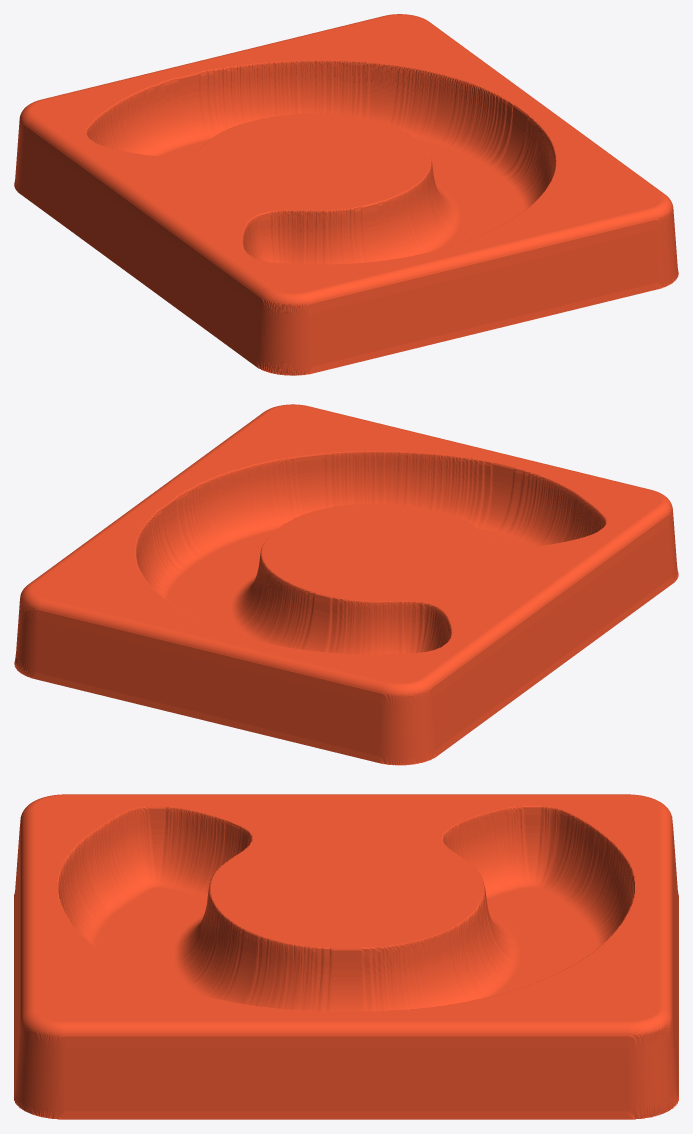
File: mold.glb
3 views of the same model, one above another, from view 1: azimuth 30°, elevation 25°; view 2: azimuth 150°, elevation 25°; view 3: azimuth 270°, elevation 25° (orthographic). The views are drawn at different scales.
Visible parts, largest first — view 1: geometry_0; view 2: geometry_0; view 3: geometry_0.
Boxes of the visible parts, box(x1,y1,x2,y2) form: geometry_0: box(14, 14, 678, 375); geometry_0: box(14, 404, 678, 765); geometry_0: box(14, 794, 678, 1119).
Bounding box in the file's own units: 0.1018 × 0.0175 × 0.1178.
